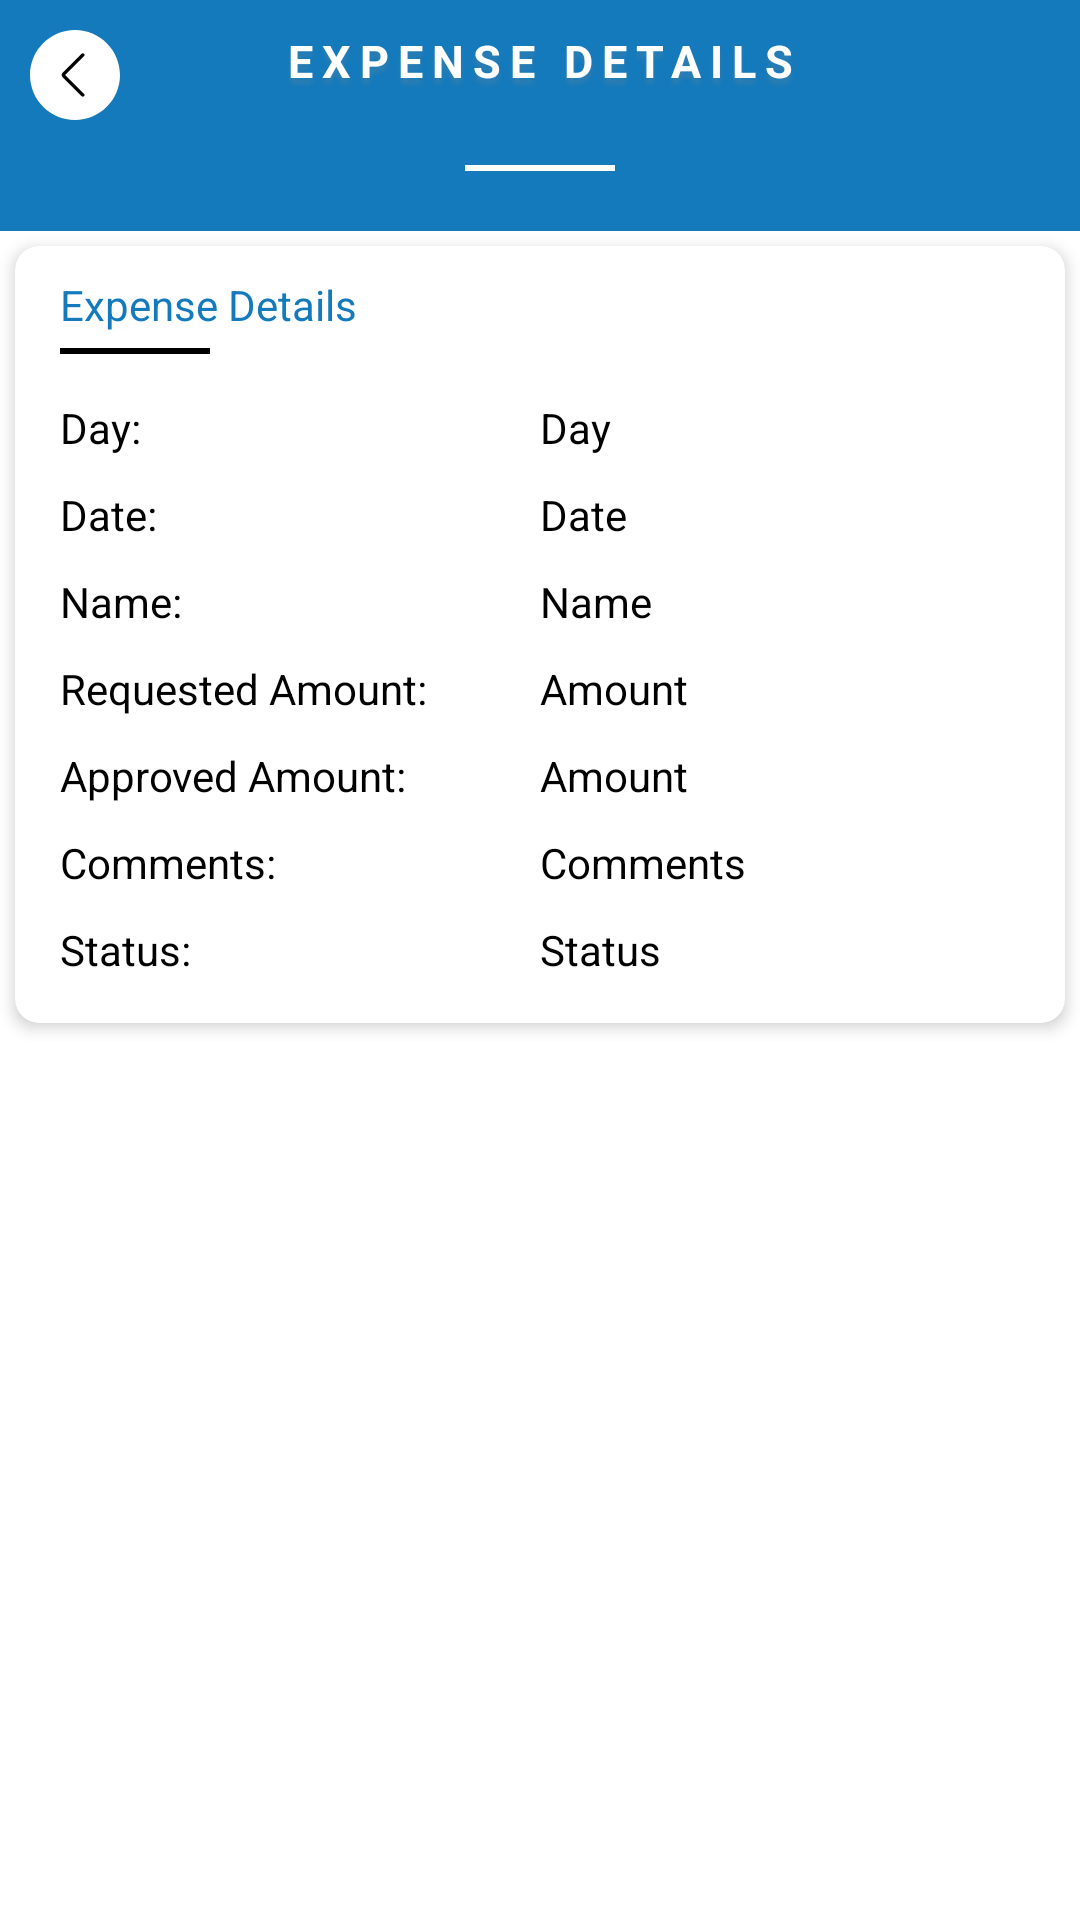

Point at icon controls on the screen. Image size 1080px×1920px, points as (x=x, y=y).
left arrow: (x=75, y=75)
